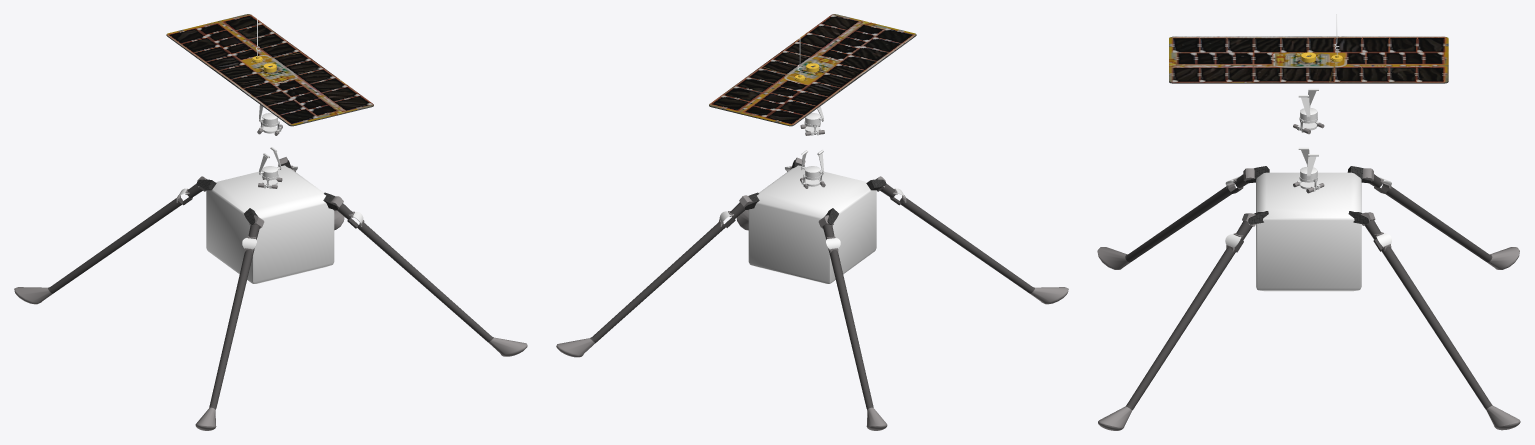
Rendered from body.glb.
3 views of the same model, side by side, from view 1: azimuth 30°, elevation 25°; view 2: azimuth 150°, elevation 25°; view 3: azimuth 270°, elevation 25° (orthographic). The views are drawn at different scales.
Visible parts, largest first — view 1: ingenuity_body; view 2: ingenuity_body; view 3: ingenuity_body.
Boxes of the visible parts, x1,y1,x2,y2 form: ingenuity_body: [14, 14, 527, 430]; ingenuity_body: [556, 14, 1068, 430]; ingenuity_body: [1097, 14, 1520, 430].
Size of the model in its own units: 0.6431 by 0.5621 by 0.643.
Materials: 9 (3 with a texture image).
